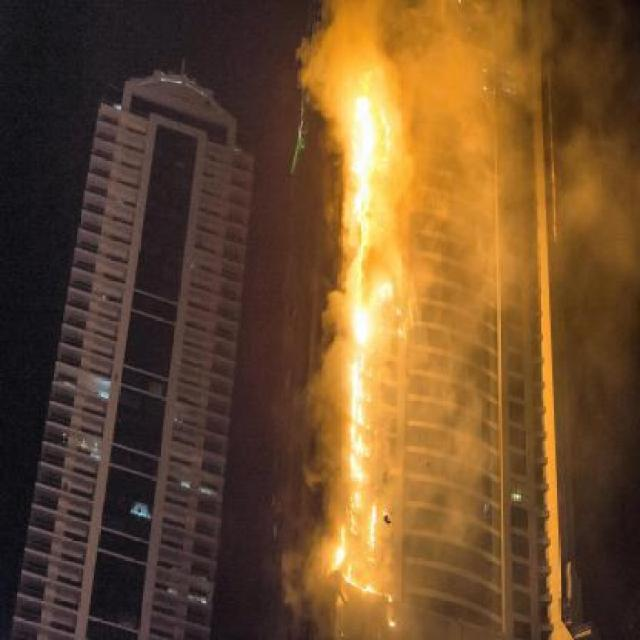Fire: (330, 43, 399, 620)
